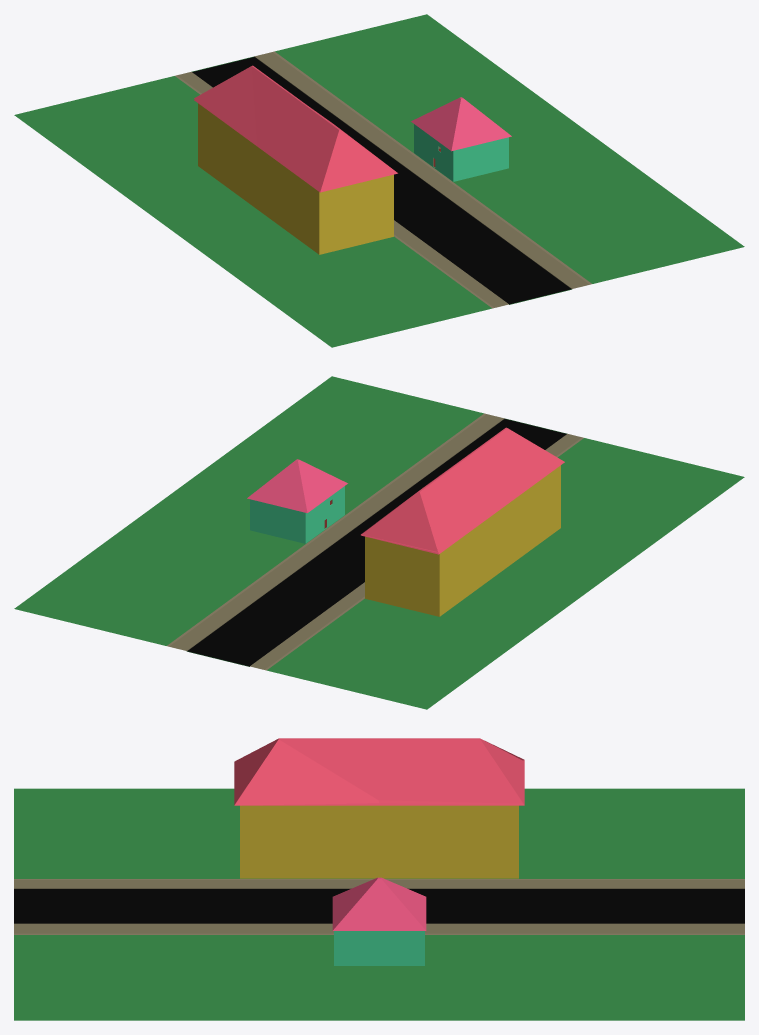
File: Act1.fbx
3 views of the same model, one above another, from view 1: azimuth 30°, elevation 25°; view 2: azimuth 150°, elevation 25°; view 3: azimuth 270°, elevation 25° (orthographic). The views are drawn at different scales.
Parts seen in each view (by area): view 1: Floor, School, School Roof, School Roof Broken, House, Roof; view 2: Floor, School, School Roof Broken, School Roof, House, Roof; view 3: Floor, School, School Roof, School Roof Broken, Roof, House.
Boxes of the visible parts, x1=… form: Floor: x1=14, y1=14, x2=744, y2=347; School: x1=198, y1=103, x2=393, y2=254; School Roof: x1=194, y1=65, x2=397, y2=192; School Roof Broken: x1=194, y1=66, x2=396, y2=192; House: x1=414, y1=124, x2=508, y2=181; Roof: x1=411, y1=97, x2=511, y2=151; Floor: x1=14, y1=376, x2=744, y2=709; School: x1=365, y1=465, x2=560, y2=616; School Roof Broken: x1=361, y1=428, x2=564, y2=552; School Roof: x1=361, y1=427, x2=564, y2=554; House: x1=250, y1=486, x2=344, y2=543; Roof: x1=247, y1=459, x2=347, y2=513; Floor: x1=14, y1=788, x2=744, y2=1020; School: x1=240, y1=805, x2=518, y2=878; School Roof: x1=236, y1=738, x2=524, y2=805; School Roof Broken: x1=234, y1=738, x2=524, y2=805; Roof: x1=332, y1=877, x2=426, y2=930; House: x1=334, y1=931, x2=424, y2=965.
Bounding box in the file's own units: 122 × 29.38 × 163.
